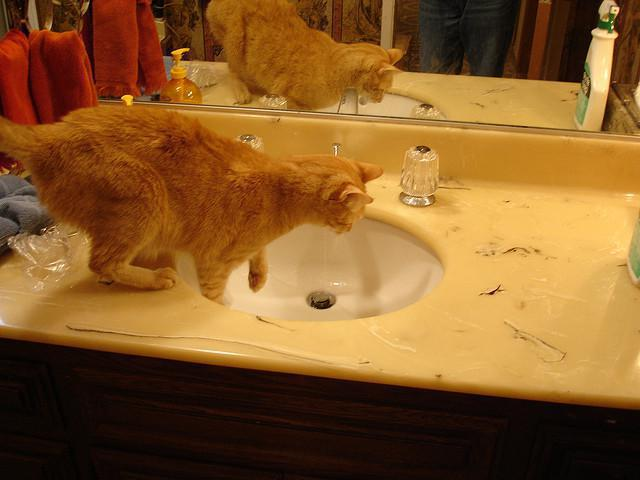Lavamanos: (175, 127, 461, 337)
Otro Obstaculo: (0, 88, 386, 310)
